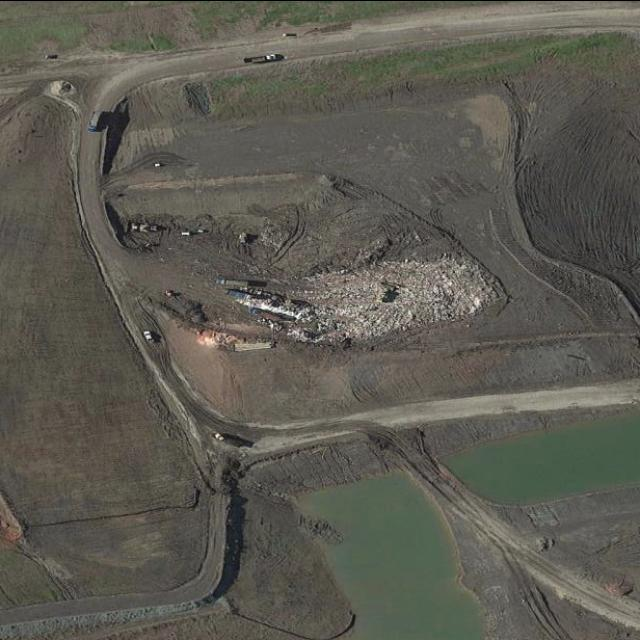dump_site: (234, 236, 502, 365)
